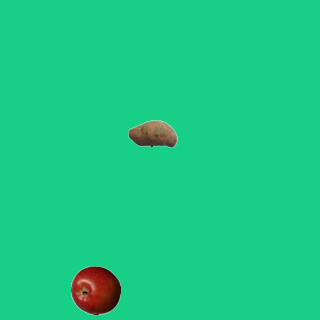Apple Braeburn: (70, 265, 120, 315)
Potato Sweet: (127, 108, 177, 158)
